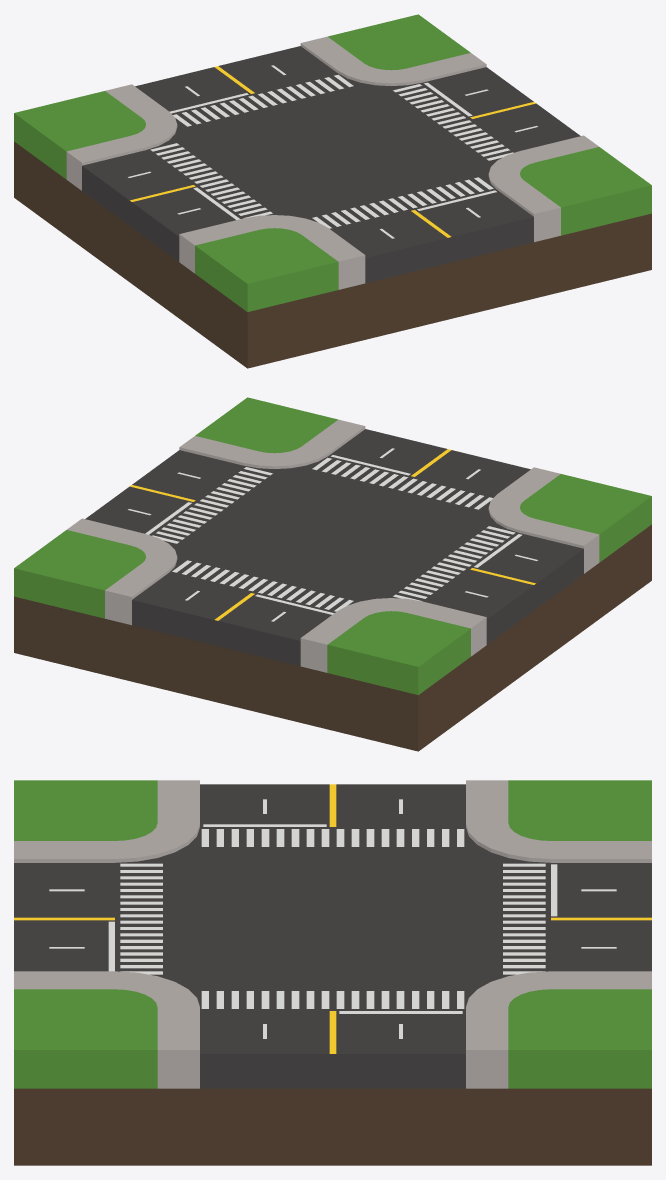
The model's file is tile-mainroad-intersection.glb.
The picture shows the model from 3 angles, top to bottom: view 1: azimuth 30°, elevation 25°; view 2: azimuth 150°, elevation 25°; view 3: azimuth 270°, elevation 25°; orthographic projection. The views are drawn at different scales.
Visible parts, largest first — view 1: tile-mainroad-intersection; view 2: tile-mainroad-intersection; view 3: tile-mainroad-intersection.
Boxes of the visible parts, x1,y1,x2,y2 form: tile-mainroad-intersection: (14,14,651,368); tile-mainroad-intersection: (14,397,651,751); tile-mainroad-intersection: (14,780,651,1165).
Bounding box in the file's own units: 30 × 6 × 30.
Materials: 1 (1 with a texture image).
